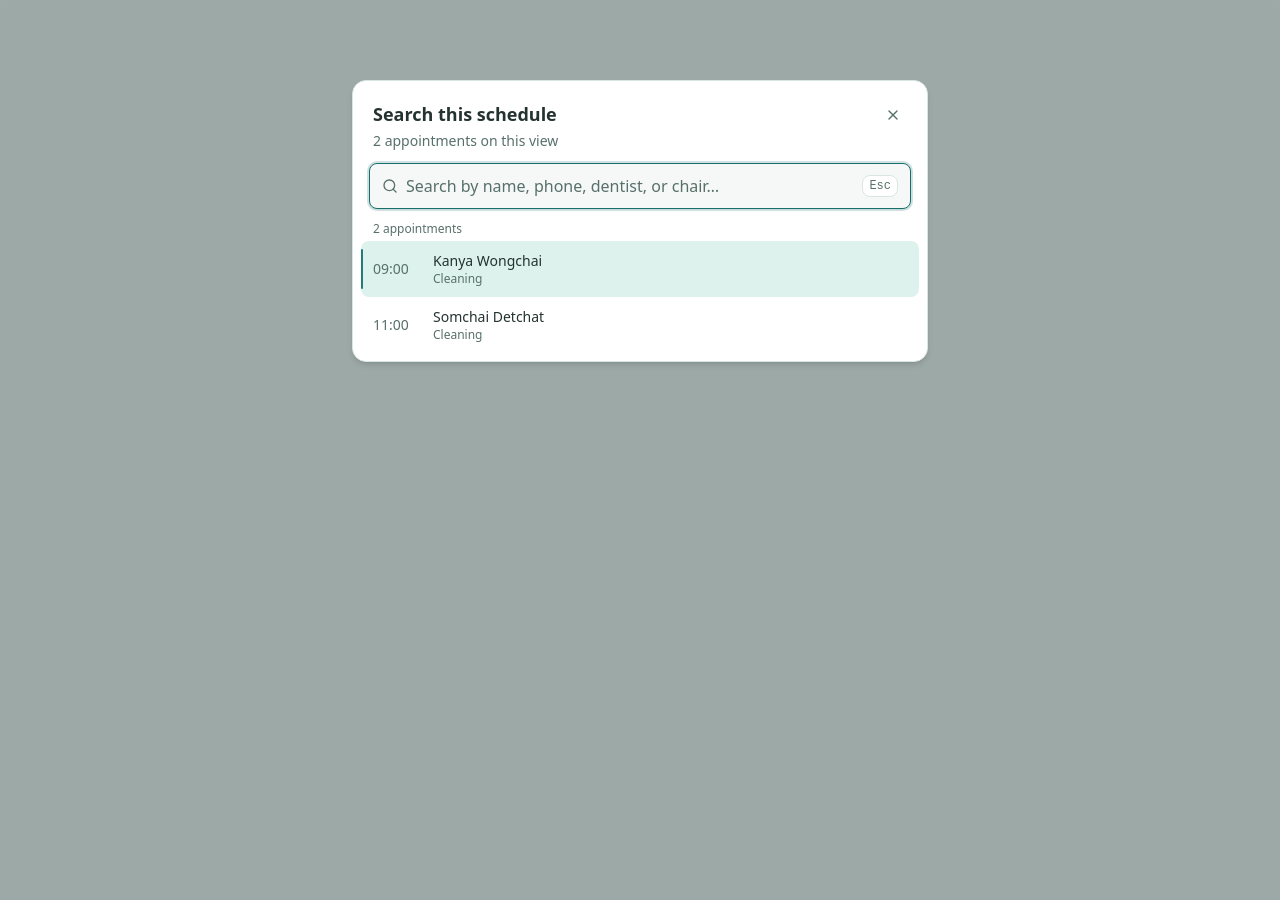
Test case: CommandPalette › says so when nothing matches
Type "nobody" into the dropdown with placeholder "Search by name, phone, dentist, or chair…".
click(630, 186); type("nobody")  # box [406, 164, 854, 208]
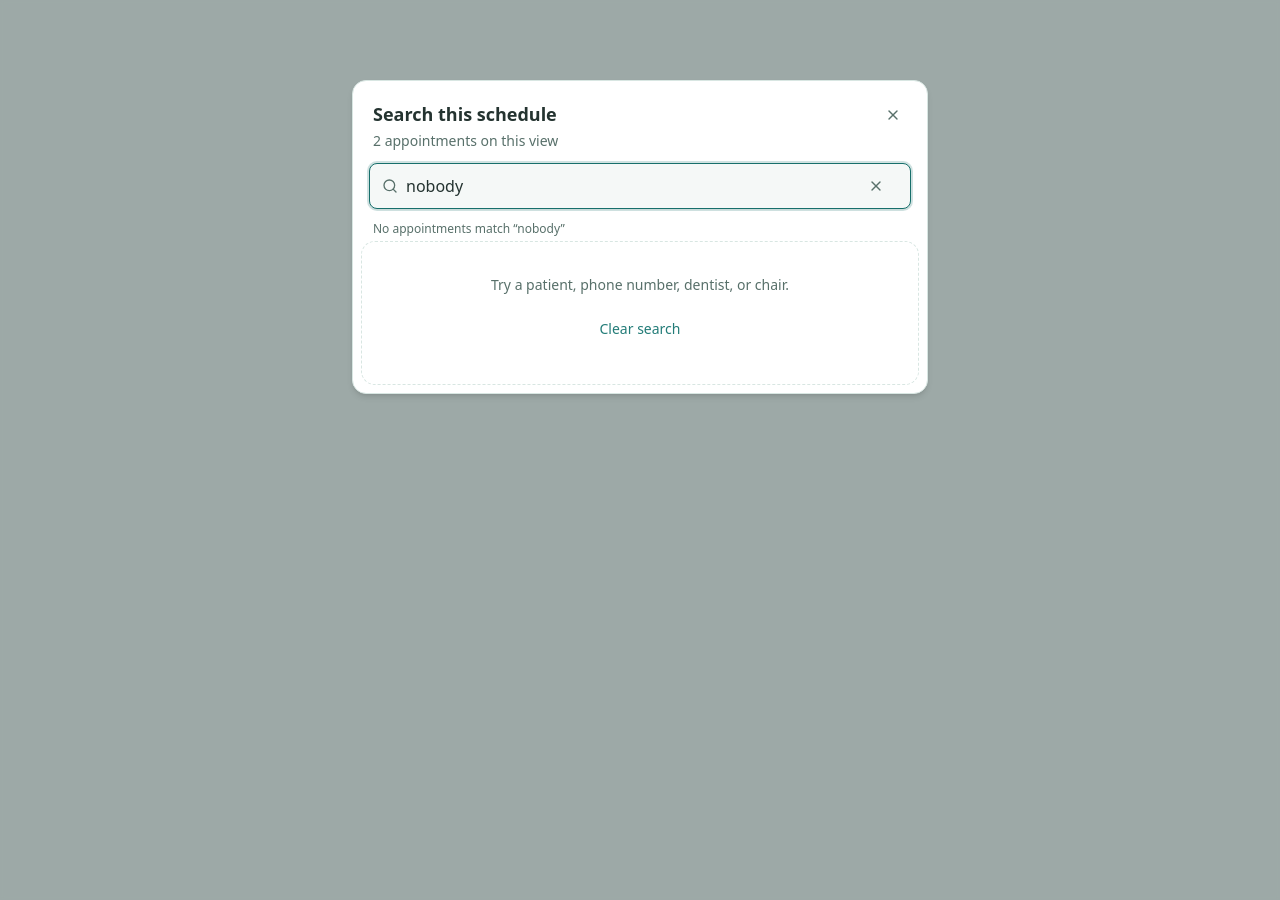
expect the message reads "No appointments match “nobody”": met, box [373, 220, 565, 237]
Click the button named "Clear search".
click(876, 186)  # box [854, 164, 898, 208]
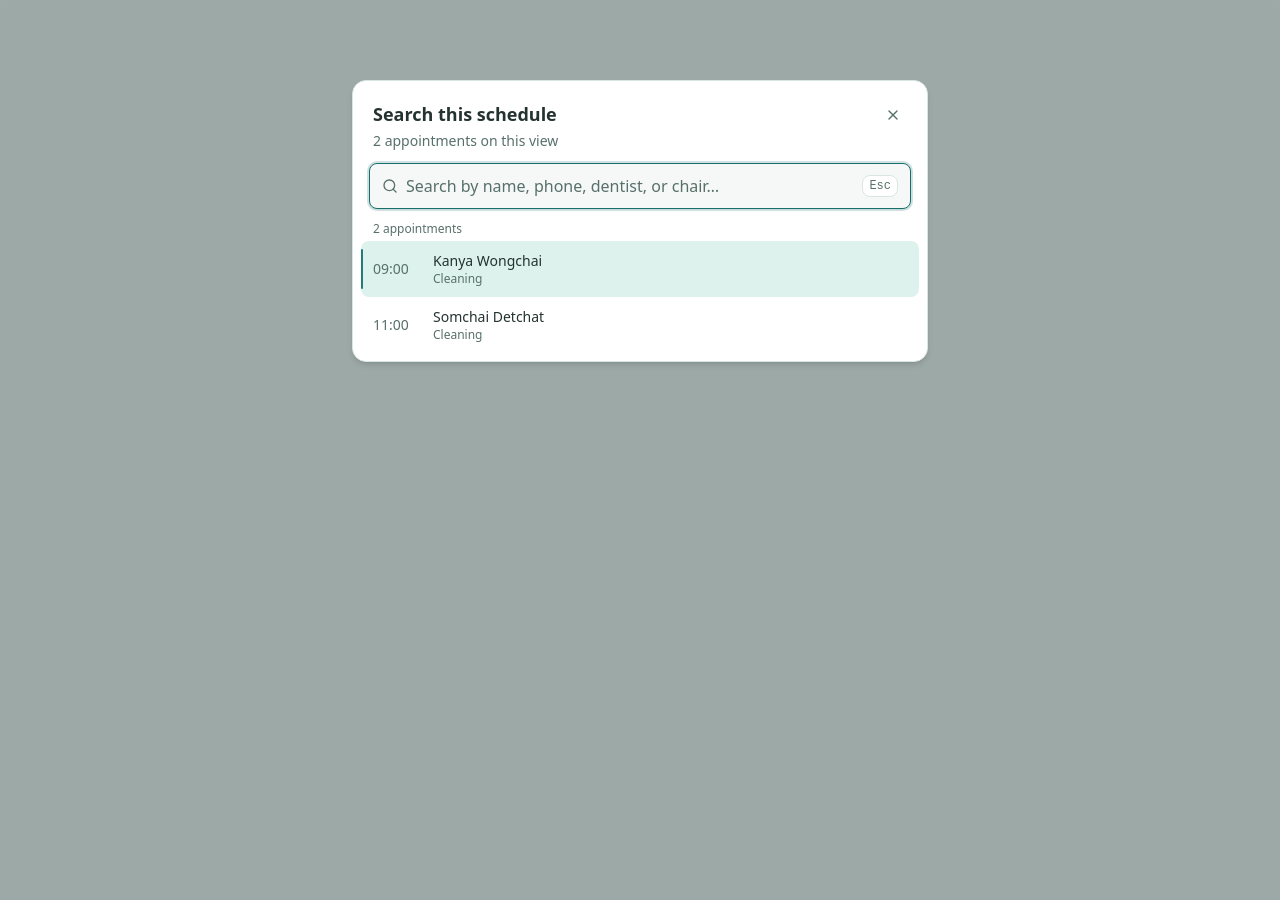
expect the text "Kanya Wongchai" is shown: met, box [433, 251, 542, 270]
